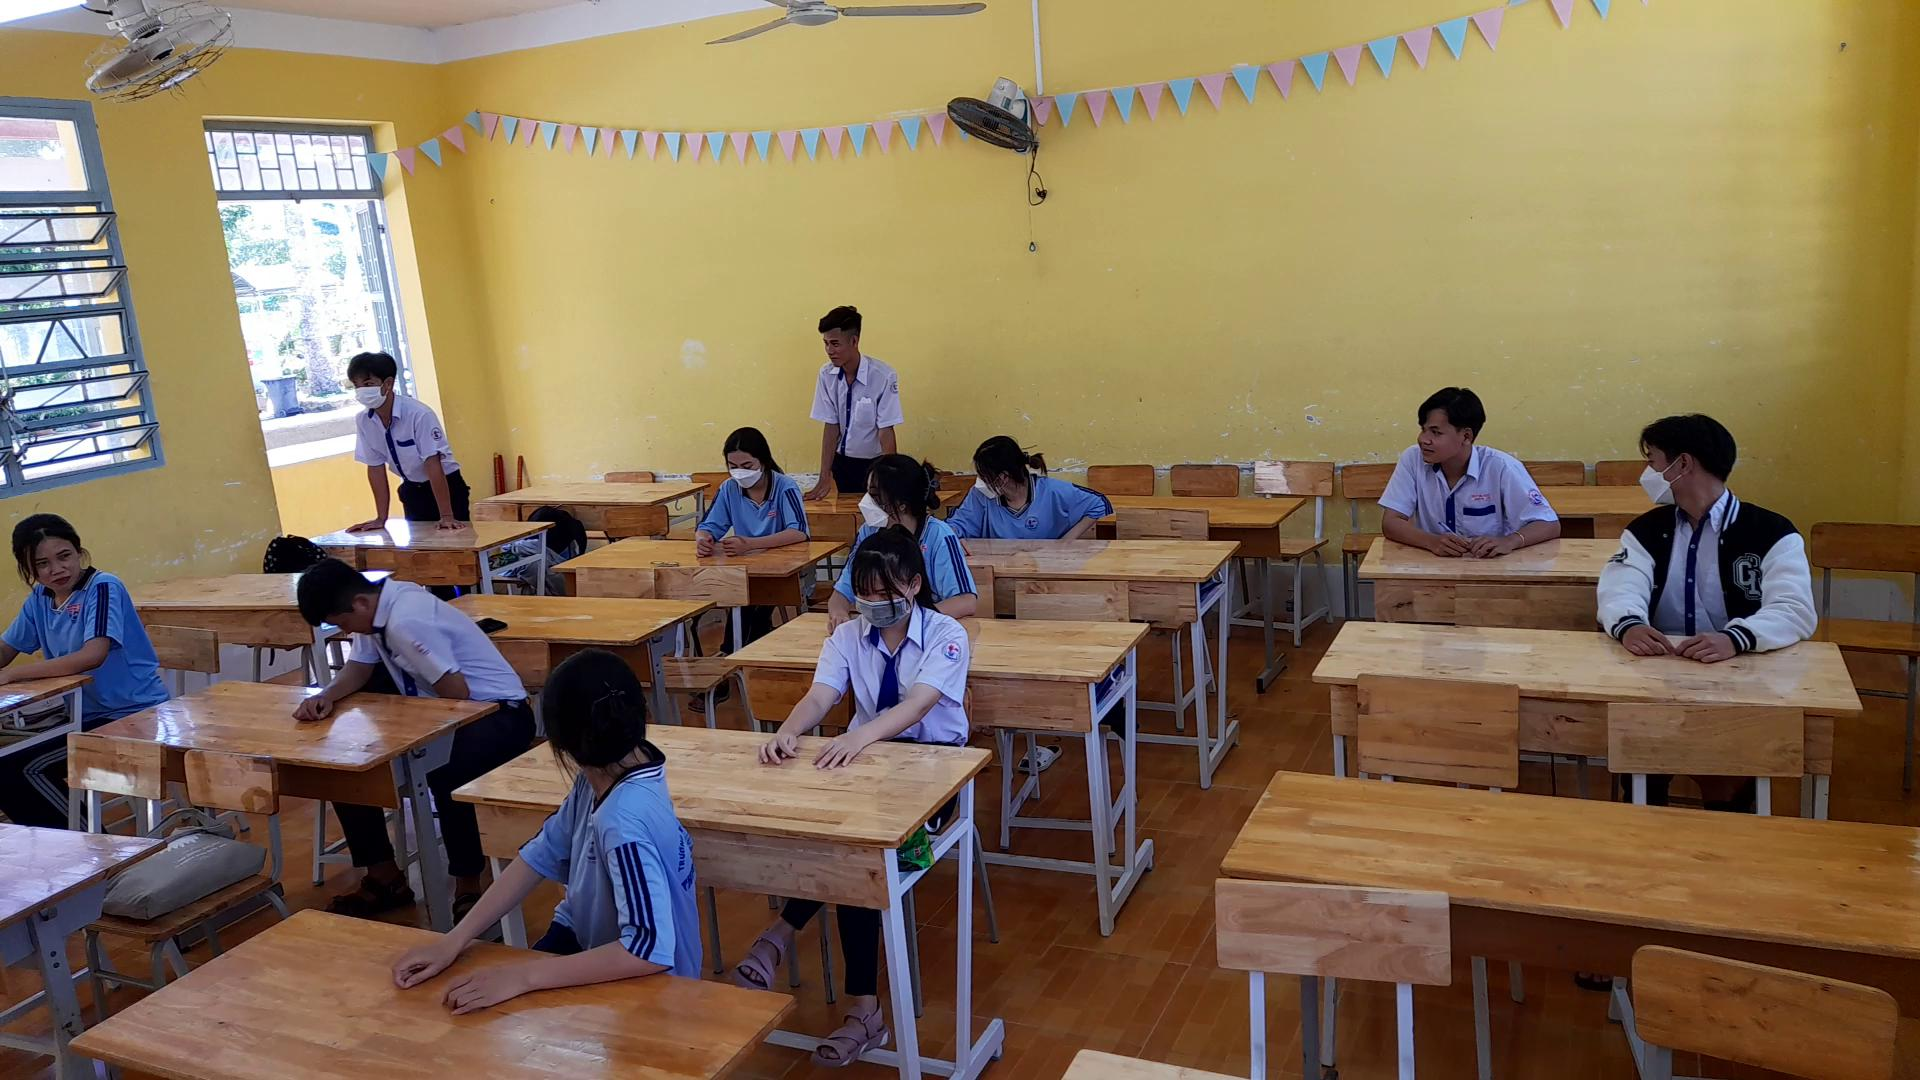Bend Over The Desk: (272, 546, 397, 638)
Look Around: (520, 638, 651, 778), (1623, 400, 1741, 521), (1393, 375, 1491, 476), (963, 426, 1046, 502)
Normal: (752, 510, 967, 766), (675, 418, 815, 564)
Stand Up: (324, 335, 472, 533), (800, 285, 895, 454)
